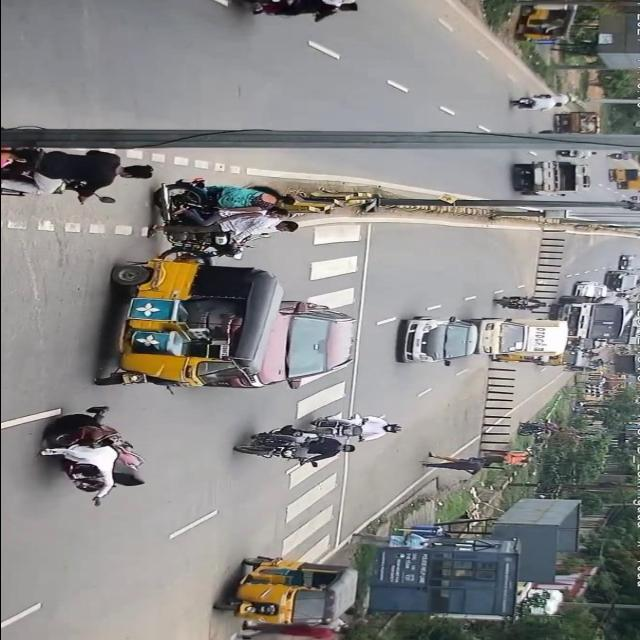accident: (21, 401, 174, 511)
non_accident: (392, 279, 630, 373), (597, 160, 639, 190), (611, 248, 640, 287)
